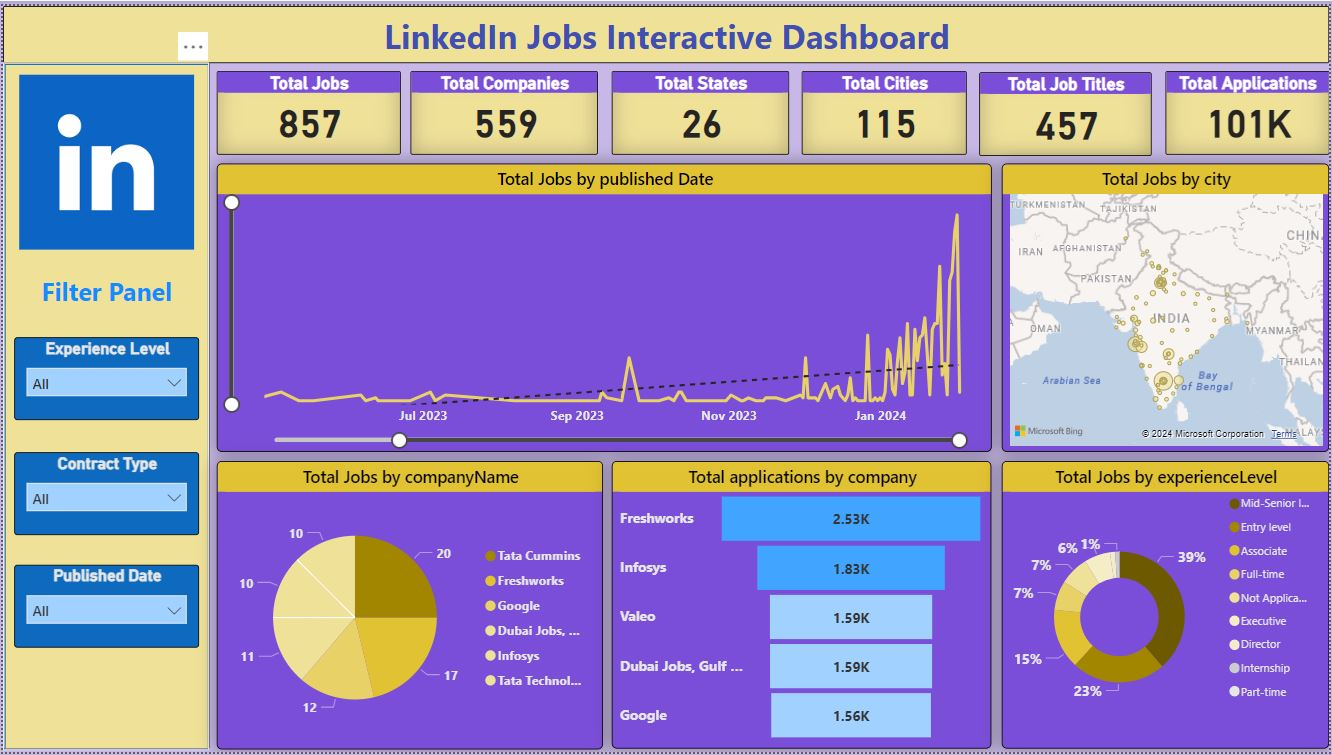

The page's visual inventory and layout, read from the dashboard file:
{"tool":"powerbi","page":{"name":"Dashboard 1","canvas":[1280,720],"ordinal":0},"visuals":[{"type":"lineChart","title":"Total Jobs by published Date","fields":{"Y":["LinkedIn_Jobs_Data_India.Total Jobs"],"Category":["LinkedIn_Jobs_Data_India.publishedAt"]},"box":[206.3,152,748,278.7],"z":0},{"type":"textbox","box":[0,0,1280.3,54.9],"z":1000},{"type":"shape","box":[0,54.3,199.1,663.5],"z":2000},{"type":"card","title":"Total Jobs","fields":{"Values":["LinkedIn_Jobs_Data_India.Total Jobs"]},"box":[206.3,62.7,177.3,80.8],"z":4000},{"type":"card","title":"Total Companies","fields":{"Values":["LinkedIn_Jobs_Data_India.Total Companies"]},"box":[393.3,62.7,181,80.8],"z":5000},{"type":"card","title":"Total States","fields":{"Values":["Count(LinkedIn_Jobs_Data_India.state)"]},"box":[587.5,62.7,171.3,80.8],"z":6000},{"type":"card","title":"Total Cities","fields":{"Values":["Count(LinkedIn_Jobs_Data_India.city)"]},"box":[770.9,62.7,159.3,80.8],"z":7000},{"type":"pieChart","fields":{"Category":["LinkedIn_Jobs_Data_India.companyName"],"Y":["LinkedIn_Jobs_Data_India.Total Jobs"]},"box":[206.3,439.1,372.8,278.7],"z":8000},{"type":"card","title":"Total Job Titles","fields":{"Values":["Count(LinkedIn_Jobs_Data_India.title)"]},"box":[942.2,63.9,166.5,80.8],"z":9000},{"type":"funnel","title":"Total applications by company","fields":{"Category":["LinkedIn_Jobs_Data_India.companyName"],"Y":["Sum(LinkedIn_Jobs_Data_India.applicationsCount)"]},"box":[587.5,439.1,366.8,277.5],"z":10000},{"type":"map","fields":{"Category":["LinkedIn_Jobs_Data_India.city"],"Size":["LinkedIn_Jobs_Data_India.Total Jobs"]},"box":[963.9,152,316.1,278.7],"z":11000},{"type":"donutChart","fields":{"Category":["LinkedIn_Jobs_Data_India.experienceLevel"],"Y":["LinkedIn_Jobs_Data_India.Total Jobs"]},"box":[963.9,439.1,316.1,277.5],"z":12000},{"type":"card","title":"Total Applications","fields":{"Values":["Sum(LinkedIn_Jobs_Data_India.applicationsCount)"]},"box":[1122,62.7,158,80.8],"z":13000},{"type":"slicer","title":"Experience Level","fields":{"Values":["LinkedIn_Jobs_Data_India.experienceLevel"]},"box":[10.9,319.7,178.6,79.6],"z":14000},{"type":"slicer","title":"Contract Type","fields":{"Values":["LinkedIn_Jobs_Data_India.contractType"]},"box":[10.9,430.7,178.6,79.6],"z":15000},{"type":"slicer","title":"Published Date","fields":{"Values":["LinkedIn_Jobs_Data_India.publishedAt.Variation.Date Hierarchy.Year"]},"box":[10.9,539.3,178.6,79.6],"z":16000},{"type":"textbox","box":[10.9,254.6,178.6,48.3],"z":17000},{"type":"image","box":[10.9,61.5,178.6,178.6],"z":18000}]}

Visuals, with their boxes in screenshot pixels (x1, y1, x2, y2), scaled from the page's 1280x720 canvas onto the 1332x755 screenshot:
"Total Jobs by published Date" lineChart: 215 159 993 452
textbox: 0 0 1331 58
shape: 0 57 207 753
"Total Jobs" card: 215 66 399 150
"Total Companies" card: 409 66 598 150
"Total States" card: 611 66 790 150
"Total Cities" card: 802 66 968 150
pieChart - LinkedIn_Jobs_Data_India.companyName x LinkedIn_Jobs_Data_India.Total Jobs: 215 460 603 753
"Total Job Titles" card: 980 67 1154 152
"Total applications by company" funnel: 611 460 993 751
map - LinkedIn_Jobs_Data_India.city x LinkedIn_Jobs_Data_India.Total Jobs: 1003 159 1331 452
donutChart - LinkedIn_Jobs_Data_India.experienceLevel x LinkedIn_Jobs_Data_India.Total Jobs: 1003 460 1331 751
"Total Applications" card: 1168 66 1331 150
"Experience Level" slicer: 11 335 197 419
"Contract Type" slicer: 11 452 197 535
"Published Date" slicer: 11 566 197 649
textbox: 11 267 197 318
image: 11 64 197 252
